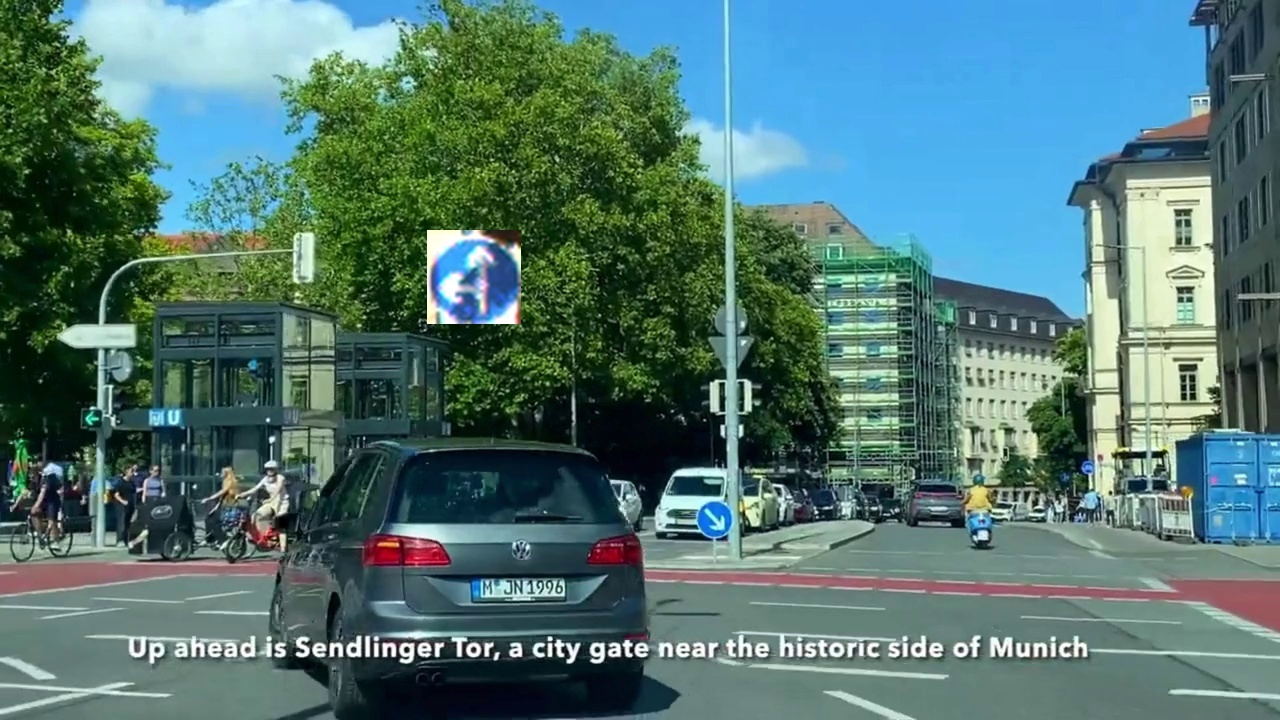Straight/left: (427, 230, 521, 324)
